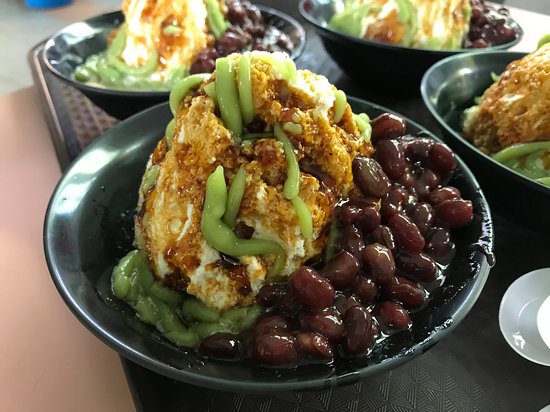Chendol: (120, 81, 493, 374), (76, 0, 294, 87), (326, 0, 524, 51)
